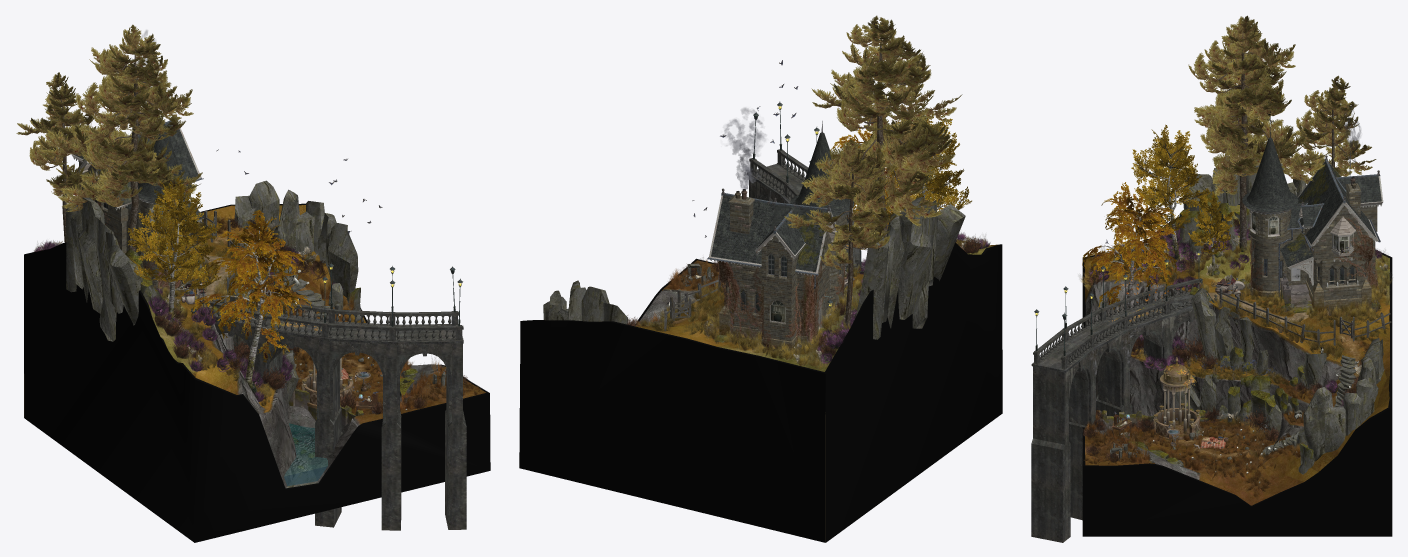
Rendered from grandmas-house.glb.
3 views of the same model, side by side, from view 1: azimuth 30°, elevation 25°; view 2: azimuth 150°, elevation 25°; view 3: azimuth 270°, elevation 25° (orthographic). The views are drawn at different scales.
Parts seen in each view (by area): view 1: SM_ground_plane_M_outside_diorama_0, SM_bridge_M_bridge_0, SM_big_pine_M_scots_pine_branch_0, SM_ground_plane_M_rock_0, SM_weeping_birch_M_birch_v2_leaves_0, SM_vegitation_M_autumn_grass_0, SM_big_birch_M_birch_leaves.001_0, SM_ground_plane_M_cliffs_0, SM_vegitation_M_autumn_grass_clumps_red_0, SM_ground_plane_M_yellow_grass_0, SM_ground_plane_M_brown_grass_0, SM_vegitation_M_autumn_grass_clumps_0 (+14 smaller); view 2: SM_ground_plane_M_outside_diorama_0, SM_big_pine_M_scots_pine_branch_0, SM_ground_plane_M_rock_0, SM_house_M_house_brick_0, SM_house_M_roof_0, SM_vegitation_M_autumn_grass_clumps_0, SM_house_M_ivy_0, SM_house_M_House_trim_0, SM_bridge_M_bridge_0, SM_decals_M_decals_0, SM_big_birch_M_birch_leaves.001_0, SM_vegitation_M_autumn_grass_0 (+8 smaller); view 3: SM_ground_plane_M_outside_diorama_0, SM_bridge_M_bridge_0, SM_big_pine_M_scots_pine_branch_0, SM_ground_plane_M_rock_0, SM_vegitation_M_autumn_grass_clumps_0, SM_ground_plane_M_cliffs_0, SM_vegitation_M_autumn_grass_0, SM_vegitation_M_autumn_grass_clumps_red_0, SM_ground_plane_M_brown_grass_0, SM_house_M_house_brick_0, SM_big_birch_M_birch_leaves.001_0, SM_weeping_birch_M_birch_v2_leaves_0 (+20 smaller).
Boxes of the visible parts, x1,y1,x2,y2 form: SM_ground_plane_M_outside_diorama_0: (24,203,490,542); SM_bridge_M_bridge_0: (204,298,466,530); SM_big_pine_M_scots_pine_branch_0: (16,24,202,211); SM_ground_plane_M_rock_0: (65,180,445,488); SM_weeping_birch_M_birch_v2_leaves_0: (190,210,311,362); SM_vegitation_M_autumn_grass_0: (34,215,468,414); SM_big_birch_M_birch_leaves.001_0: (127,177,222,294); SM_ground_plane_M_cliffs_0: (212,277,442,487); SM_vegitation_M_autumn_grass_clumps_red_0: (212,217,481,414); SM_ground_plane_M_yellow_grass_0: (180,205,352,412); SM_ground_plane_M_brown_grass_0: (266,243,485,423); SM_vegitation_M_autumn_grass_clumps_0: (35,216,298,405); SM_ground_plane_M_outside_diorama_0: (519,242,1002,542); SM_big_pine_M_scots_pine_branch_0: (784,15,962,269); SM_ground_plane_M_rock_0: (543,197,965,339); SM_house_M_house_brick_0: (721,195,846,341); SM_house_M_roof_0: (711,133,854,272); SM_vegitation_M_autumn_grass_clumps_0: (637,235,986,368); SM_house_M_ivy_0: (717,245,845,347); SM_house_M_House_trim_0: (707,121,848,352); SM_bridge_M_bridge_0: (747,149,861,270); SM_decals_M_decals_0: (724,108,825,272); SM_big_birch_M_birch_leaves.001_0: (855,106,971,249); SM_vegitation_M_autumn_grass_0: (626,233,990,363); SM_ground_plane_M_outside_diorama_0: (1082,204,1392,536); SM_bridge_M_bridge_0: (1031,278,1217,542); SM_big_pine_M_scots_pine_branch_0: (1188,15,1376,195); SM_ground_plane_M_rock_0: (1110,156,1384,474); SM_vegitation_M_autumn_grass_clumps_0: (1078,238,1392,457); SM_ground_plane_M_cliffs_0: (1085,281,1336,479); SM_vegitation_M_autumn_grass_0: (1081,218,1387,462); SM_vegitation_M_autumn_grass_clumps_red_0: (1083,339,1370,497); SM_ground_plane_M_brown_grass_0: (1085,252,1348,505); SM_house_M_house_brick_0: (1249,183,1377,300); SM_big_birch_M_birch_leaves.001_0: (1131,124,1234,254); SM_weeping_birch_M_birch_v2_leaves_0: (1082,182,1176,311).
Size of the model in its own units: 24.01 by 30.88 by 23.74.
45 materials, 41 textured.
